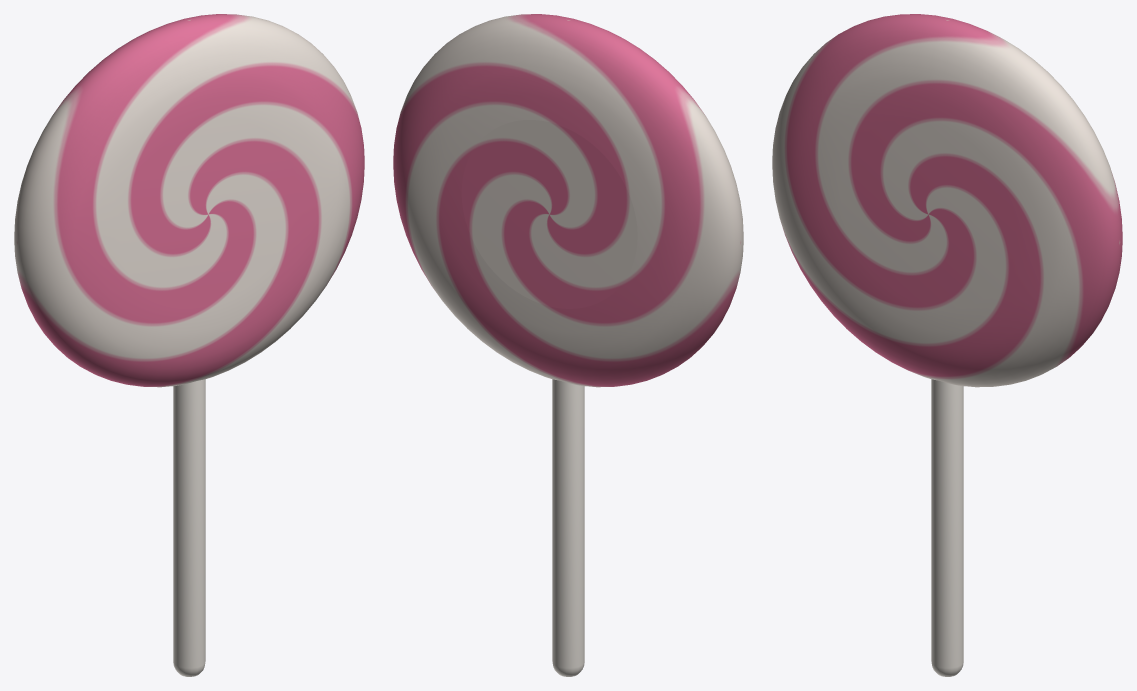
Rendered from lollipop_tree.glb.
3 renders of one model, left to right at view 1: azimuth 30°, elevation 25°; view 2: azimuth 150°, elevation 25°; view 3: azimuth 330°, elevation 25°, orthographic.
Visible parts, largest first — view 1: lollipop_tree_pink; view 2: lollipop_tree_pink; view 3: lollipop_tree_pink.
Boxes of the visible parts, bbox=[...] form: lollipop_tree_pink: bbox=[14, 14, 364, 676]; lollipop_tree_pink: bbox=[393, 14, 743, 676]; lollipop_tree_pink: bbox=[772, 14, 1122, 676].
Bounding box in the file's own units: 2.2 × 4 × 0.42.
2 materials, 1 textured.
